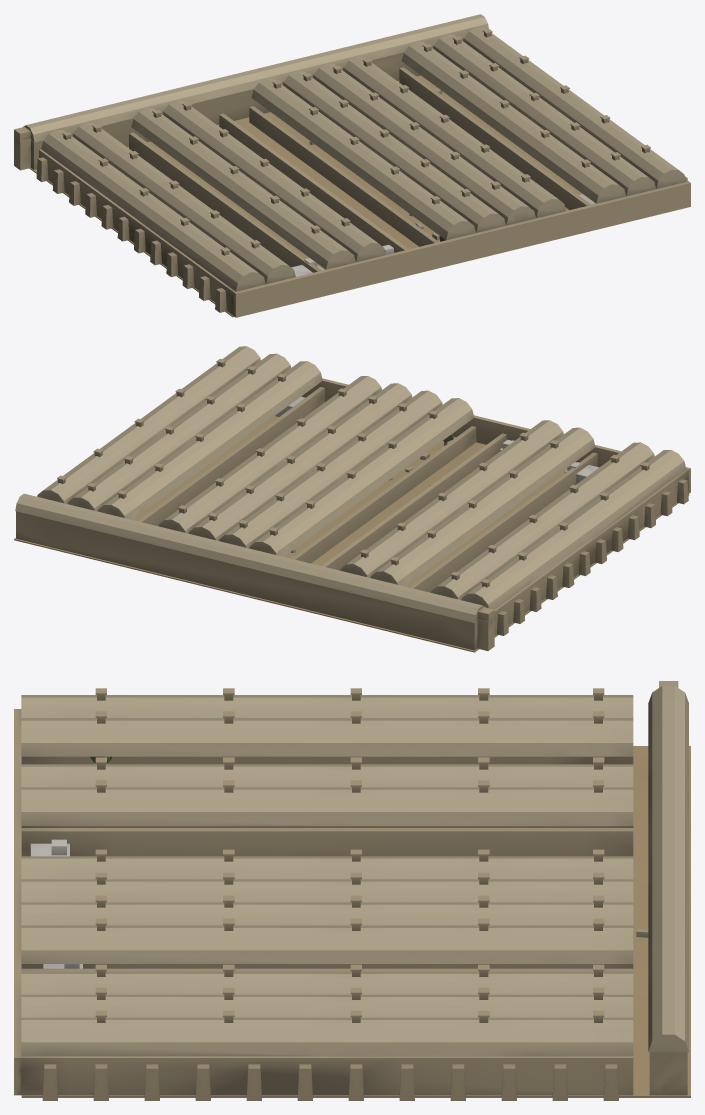
Rendered from la-malga-ruin.glb.
3 renders of one model, top to bottom at view 1: azimuth 30°, elevation 25°; view 2: azimuth 150°, elevation 25°; view 3: azimuth 270°, elevation 25°, orthographic. The views are drawn at different scales.
Visible parts, largest first — view 1: p1_vaults, p0_walls, p2_shafts; view 2: p1_vaults, p0_walls, p2_shafts; view 3: p1_vaults, p0_walls, p2_shafts.
Part boxes in pixels (x1,y1,x2,y2): p1_vaults: (14, 14, 686, 291); p0_walls: (29, 38, 690, 317); p2_shafts: (62, 29, 650, 276); p1_vaults: (15, 346, 686, 650); p0_walls: (14, 378, 690, 652); p2_shafts: (57, 358, 650, 587); p1_vaults: (21, 681, 688, 1056); p0_walls: (14, 709, 690, 1100); p2_shafts: (30, 688, 648, 1022).
Bounding box in the file's own units: 135 × 12.25 × 106.
